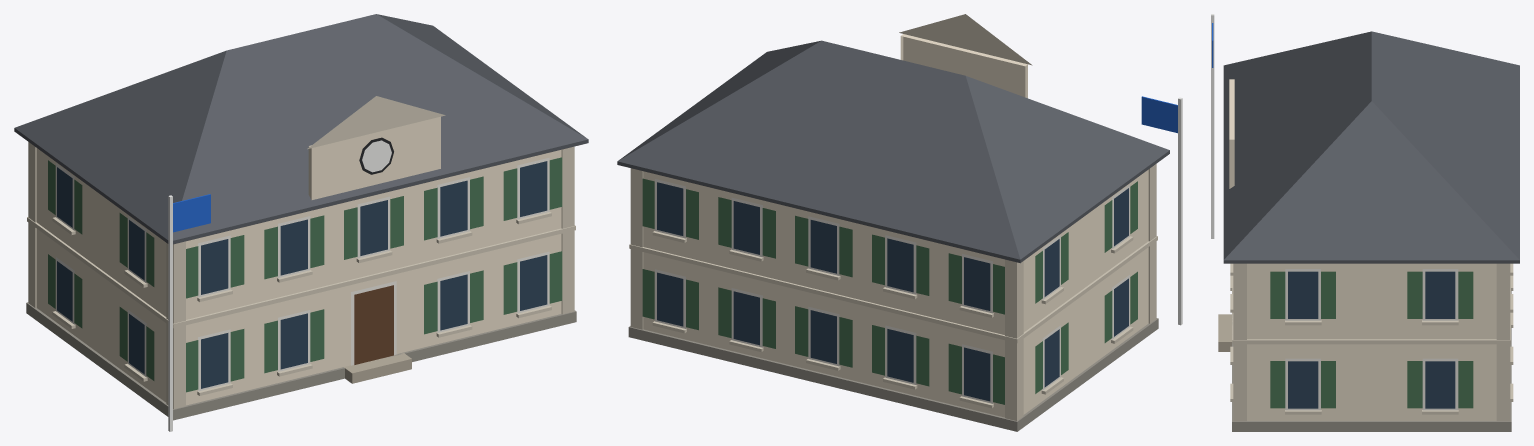
Rendered from mairie_village.glb.
3 views of the same model, side by side, from view 1: azimuth 30°, elevation 25°; view 2: azimuth 150°, elevation 25°; view 3: azimuth 270°, elevation 25° (orthographic). The views are drawn at different scales.
Parts seen in each view (by area): view 1: mairie_village; view 2: mairie_village; view 3: mairie_village.
Boxes of the visible parts, x1,y1,x2,y2 form: mairie_village: (14, 14, 588, 431); mairie_village: (617, 14, 1182, 431); mairie_village: (1211, 14, 1519, 431).
Size of the model in its own units: 17.06 by 10.94 by 11.26.
1 material, 1 textured.
